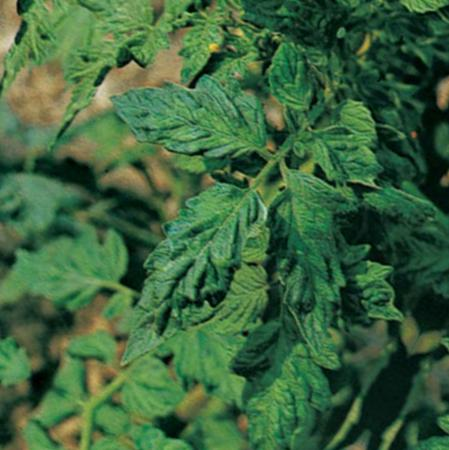Tomato leaf mosaic virus: (99, 163, 283, 392), (215, 157, 394, 351), (104, 41, 281, 196), (197, 301, 366, 450), (285, 115, 396, 201), (252, 41, 337, 126)
